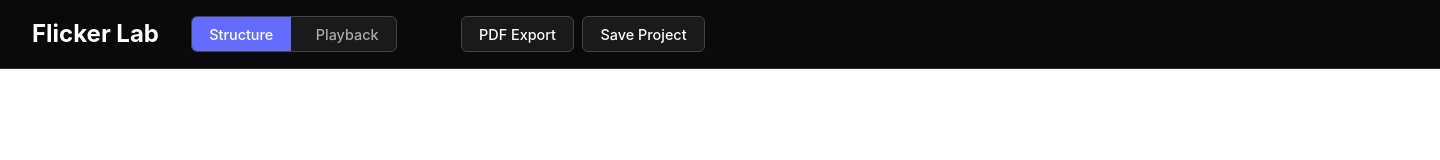
Test: Toolbar › toggles between structure and playback views
What coordinates should you click on to do the following:
click the button "Playback"
I would click on:
 (347, 34)
Its box is left=298, top=17, right=396, bottom=51.
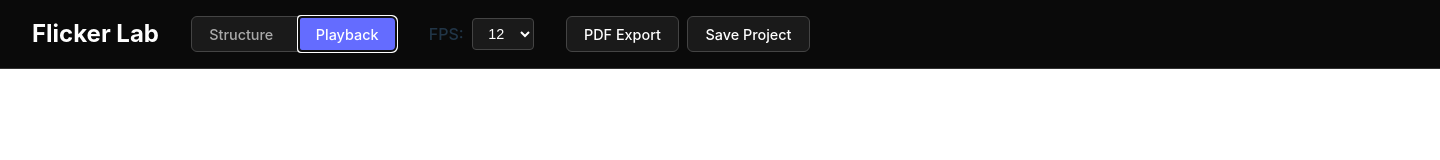
Result: the dropdown labelled "FPS:" is shown at left=472, top=18, right=534, bottom=50
What coordinates should you click on to do the following:
click the button "Structure"
I would click on:
 (241, 34)
Its box is left=192, top=17, right=291, bottom=51.
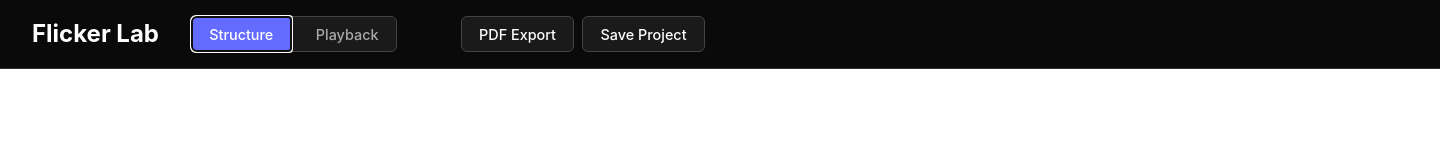
Result: the label labelled "FPS:" is gone
